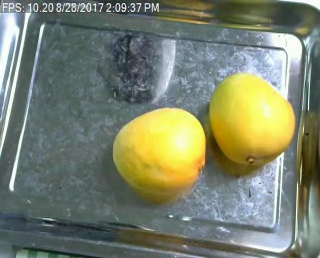Mango: (206, 74, 297, 164), (112, 108, 205, 188)
